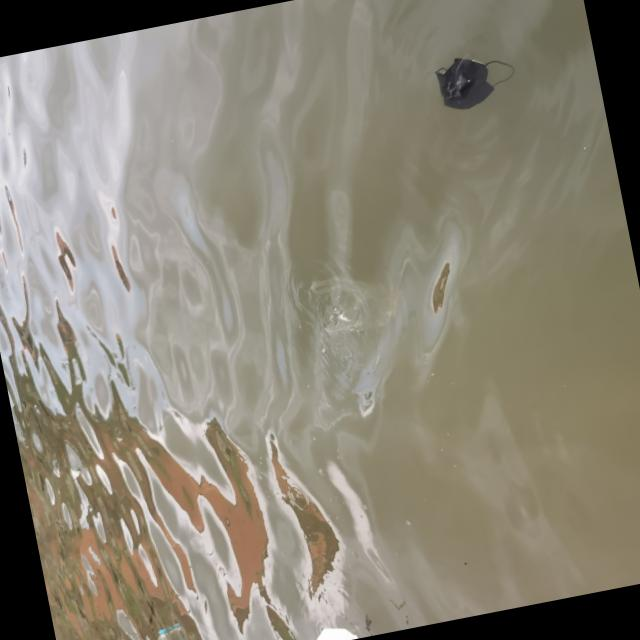foam: (311, 616, 367, 640)
plastic bottle: (149, 619, 193, 640)
